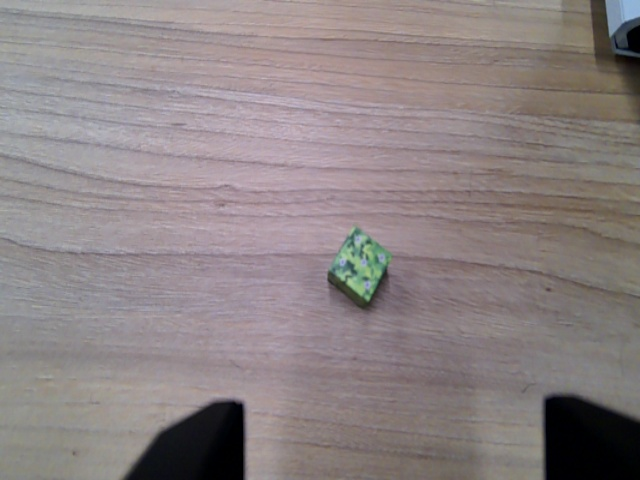grass: (323, 227, 392, 308)
